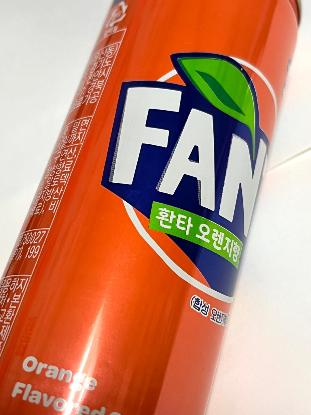Can: (0, 0, 306, 415)
